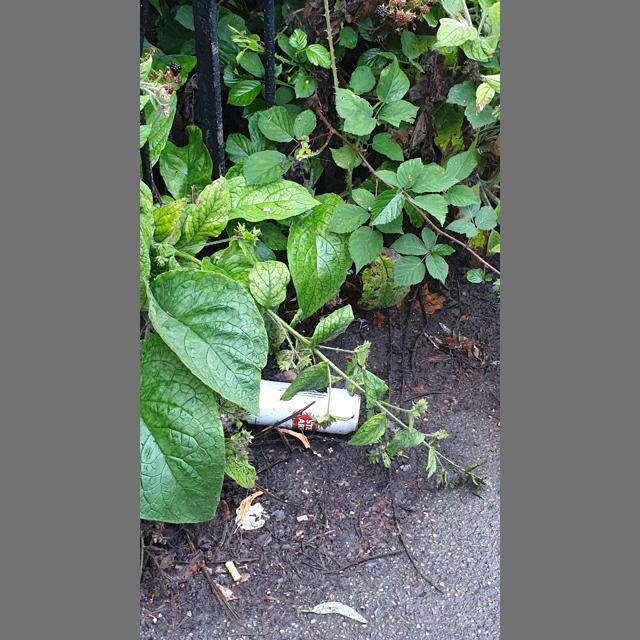litter: (247, 380, 360, 434), (225, 561, 241, 581)
